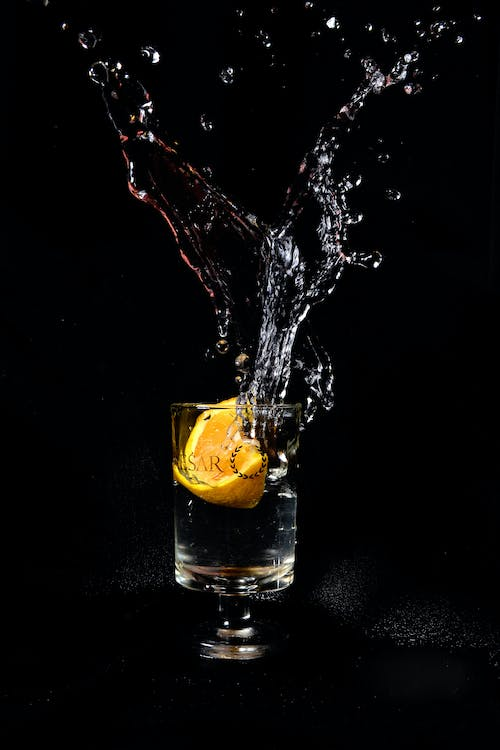alcohol: (165, 399, 303, 662)
